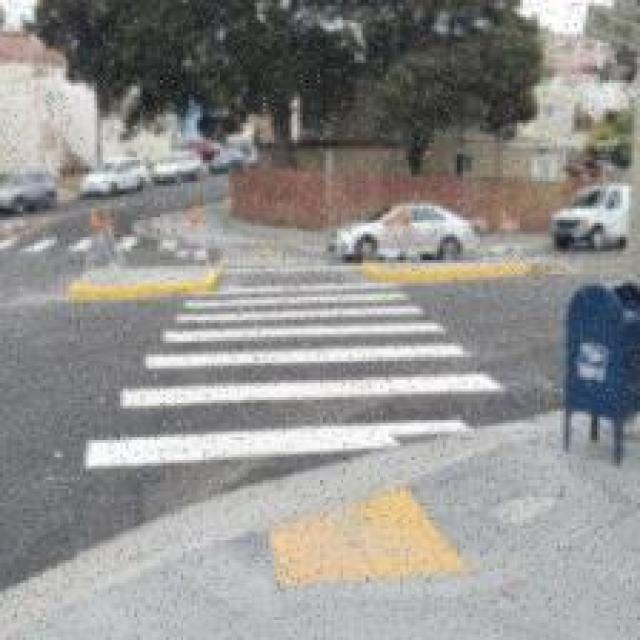zebra: (81, 279, 512, 475), (0, 215, 153, 266)
